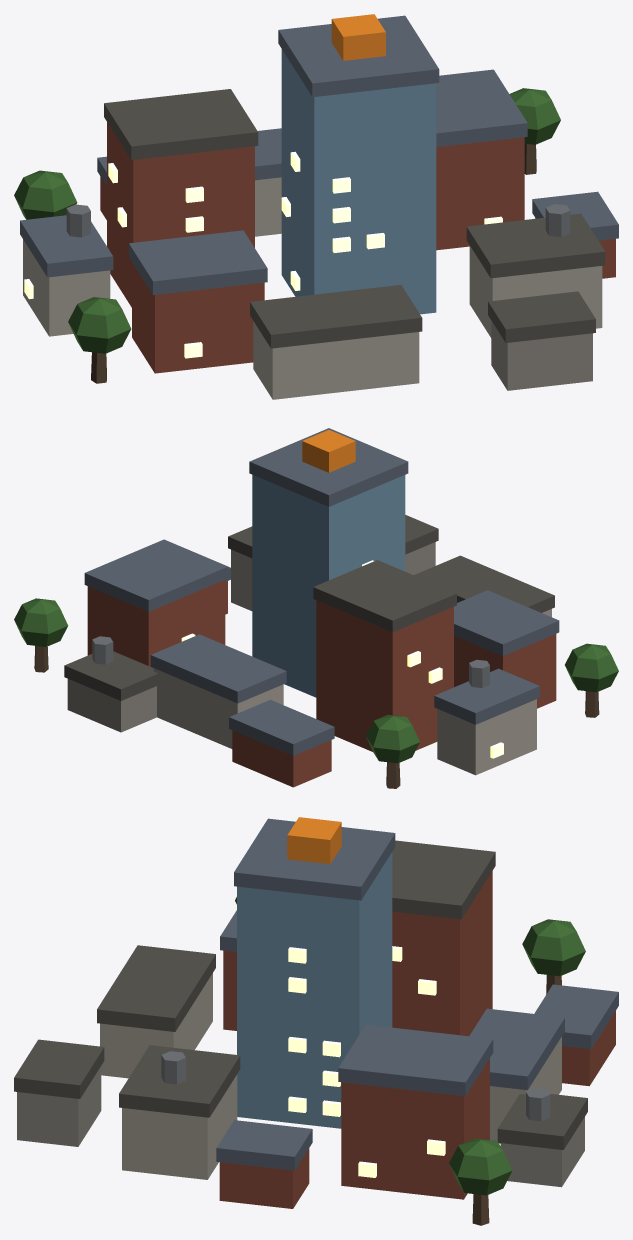
The model's file is overworld-settlement-north-american-town.glb.
3 renders of one model, top to bottom at view 1: azimuth 30°, elevation 25°; view 2: azimuth 150°, elevation 25°; view 3: azimuth 270°, elevation 25°, orthographic. The views are drawn at different scales.
Visible parts, largest first — view 1: settlement; view 2: settlement; view 3: settlement.
Part boxes in pixels (left/top/right/bottom): settlement: left=14, top=14, right=618, bottom=399; settlement: left=14, top=428, right=618, bottom=788; settlement: left=14, top=817, right=618, bottom=1225.
Bounding box in the file's own units: 0.5406 × 0.2344 × 0.4771.
